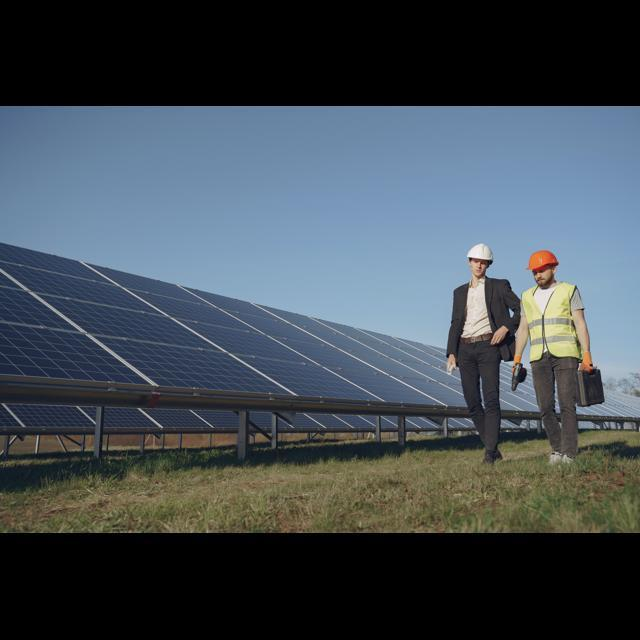Capacete: (528, 250, 558, 270), (467, 243, 492, 262)
Colete: (522, 282, 581, 361)
